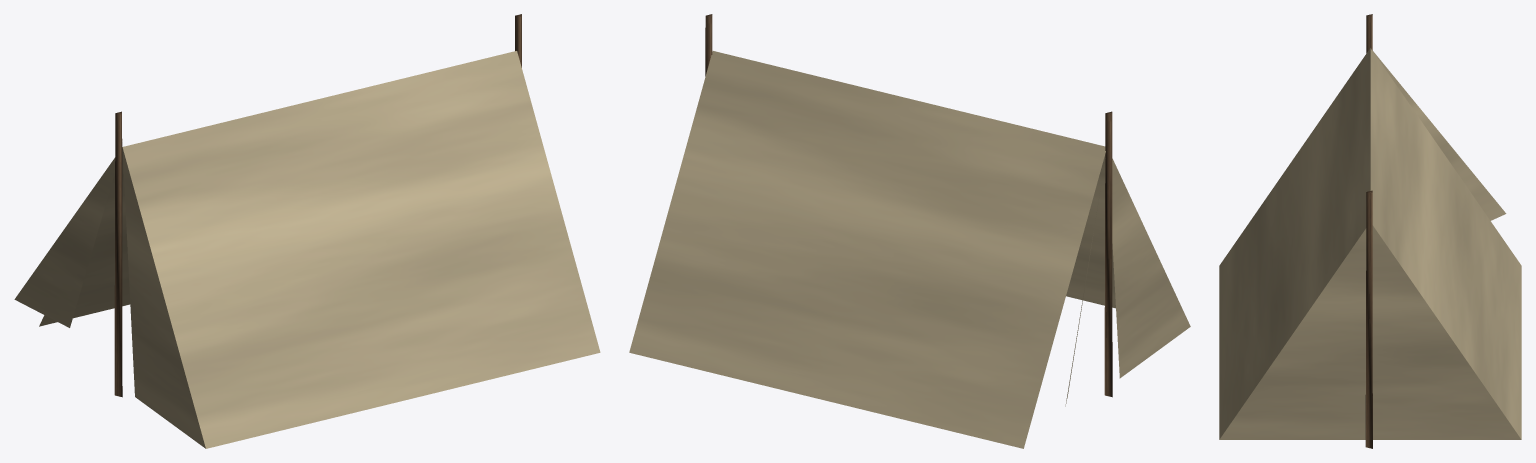
File: Tent_Pilgrim_1_LOD1.gltf
The picture shows the model from 3 angles, left to right: view 1: azimuth 30°, elevation 25°; view 2: azimuth 150°, elevation 25°; view 3: azimuth 270°, elevation 25°; orthographic projection. The views are drawn at different scales.
Parts seen in each view (by area): view 1: Tent_Pilgrim_1_LOD1; view 2: Tent_Pilgrim_1_LOD1; view 3: Tent_Pilgrim_1_LOD1.
Boxes of the visible parts, x1,y1,x2,y2 form: Tent_Pilgrim_1_LOD1: [14, 14, 600, 448]; Tent_Pilgrim_1_LOD1: [629, 14, 1190, 448]; Tent_Pilgrim_1_LOD1: [1219, 14, 1521, 448].
Size of the model in its own units: 4.95 by 3.07 by 3.3.
2 materials, 2 textured.
